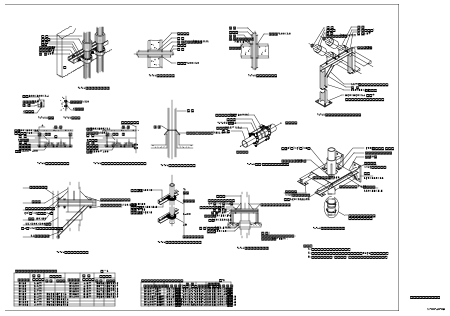corridor: (24, 170, 78, 182)
door: (103, 115, 108, 116)
room: (10, 5, 125, 40), (155, 5, 258, 30), (254, 90, 293, 103)
wall: (378, 147, 398, 168), (45, 111, 72, 126), (349, 139, 371, 155), (45, 93, 61, 112), (45, 104, 66, 118), (349, 150, 365, 168), (368, 231, 389, 242), (174, 269, 190, 281), (353, 275, 364, 292), (385, 275, 395, 293), (372, 234, 387, 246), (391, 127, 409, 137), (45, 76, 67, 83), (59, 284, 76, 293), (65, 281, 80, 291), (45, 88, 60, 96), (78, 264, 87, 277), (389, 274, 396, 290), (393, 145, 401, 159), (357, 275, 365, 289), (179, 276, 190, 286), (77, 261, 84, 275), (179, 269, 191, 277), (343, 115, 356, 122), (369, 228, 386, 233), (92, 113, 108, 118), (180, 255, 191, 262), (273, 275, 281, 284), (282, 185, 288, 197), (284, 192, 291, 202), (370, 217, 384, 222), (45, 120, 56, 126), (360, 274, 365, 287), (289, 276, 296, 285), (394, 271, 397, 287), (366, 140, 373, 145), (373, 140, 379, 143), (59, 281, 65, 284), (165, 250, 177, 251), (269, 262, 270, 273), (300, 262, 301, 273), (366, 143, 368, 145), (378, 143, 379, 145), (163, 250, 165, 251), (99, 258, 101, 259), (76, 246, 78, 247), (69, 242, 71, 243), (66, 241, 68, 242), (274, 264, 275, 265), (293, 264, 294, 265), (175, 259, 176, 260), (167, 257, 168, 258), (167, 274, 168, 275), (175, 276, 176, 277), (119, 268, 120, 269), (116, 266, 117, 267), (111, 185, 112, 186), (73, 244, 74, 245), (71, 243, 72, 244), (63, 241, 64, 242), (34, 185, 35, 186), (272, 271, 272, 272), (278, 267, 278, 268), (297, 267, 297, 268), (291, 271, 291, 272), (203, 169, 204, 169), (170, 254, 172, 254), (165, 279, 177, 279), (163, 279, 165, 279), (170, 271, 172, 271), (114, 266, 116, 266), (178, 169, 178, 169), (152, 186, 152, 186), (133, 186, 134, 186), (146, 186, 147, 186), (81, 249, 82, 249), (83, 250, 84, 250), (88, 252, 88, 253), (103, 260, 105, 260), (101, 259, 101, 259), (78, 247, 78, 247), (76, 245, 76, 246), (74, 245, 76, 245), (72, 244, 73, 244), (68, 242, 69, 242), (66, 241, 66, 241), (65, 241, 66, 241), (62, 242, 62, 243), (60, 243, 60, 244), (69, 186, 70, 186), (55, 186, 57, 186), (75, 186, 75, 186), (65, 214, 65, 214), (66, 220, 66, 220)
window: (97, 264, 98, 265)
